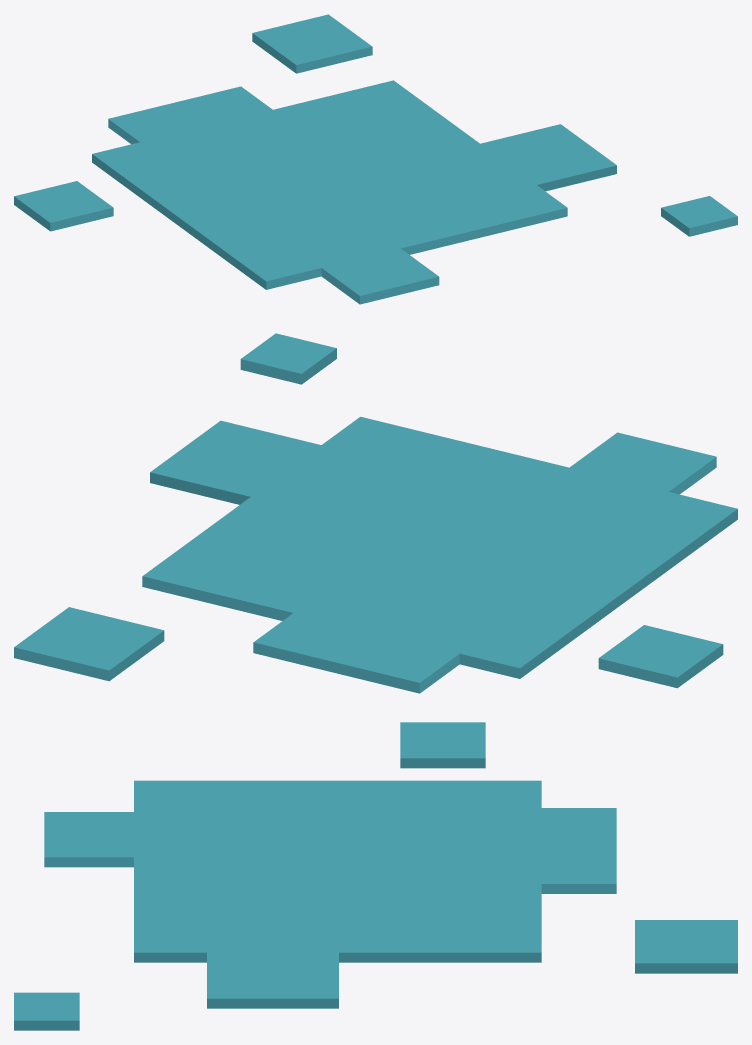
Rendered from WaterSpill.glb.
The picture shows the model from 3 angles, top to bottom: view 1: azimuth 30°, elevation 25°; view 2: azimuth 150°, elevation 25°; view 3: azimuth 270°, elevation 25°; orthographic projection. The views are drawn at different scales.
Visible parts, largest first — view 1: SI_Prop_WaterSpill_01; view 2: SI_Prop_WaterSpill_01; view 3: SI_Prop_WaterSpill_01.
Boxes of the visible parts, x1=… form: SI_Prop_WaterSpill_01: x1=14, y1=14, x2=737, y2=304; SI_Prop_WaterSpill_01: x1=14, y1=333, x2=737, y2=693; SI_Prop_WaterSpill_01: x1=14, y1=722, x2=737, y2=1030.
Size of the model in its own units: 0.0213 by 0.000335 by 0.0219.
Materials: 1 (1 with a texture image).
